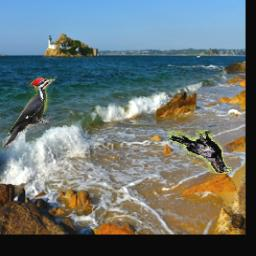Crow: (169, 131, 233, 175)
Woodpecker: (3, 78, 56, 148)
